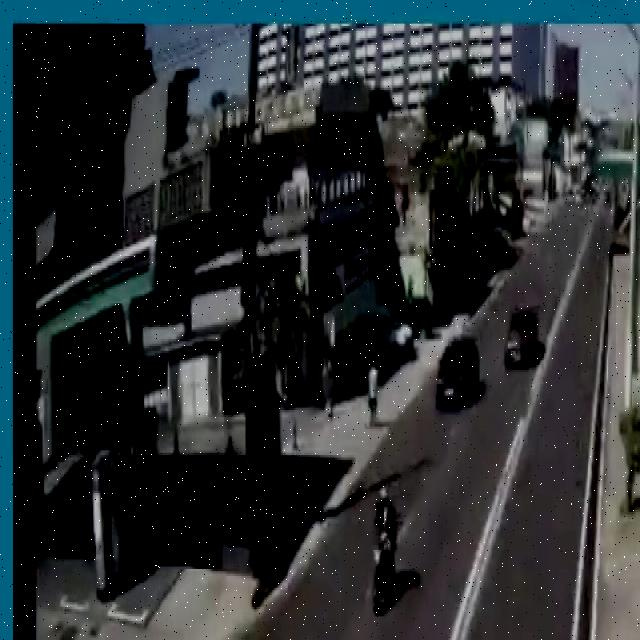biker: (370, 479, 400, 631)
car: (436, 340, 480, 415), (502, 309, 542, 377)
people: (366, 353, 382, 434)
